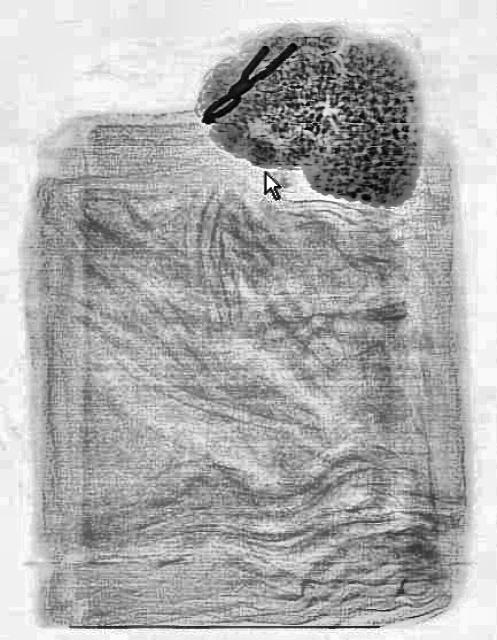Pliers: (194, 23, 298, 132)
